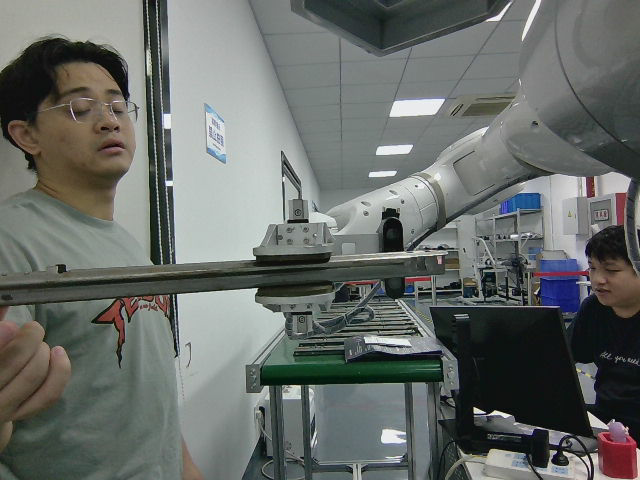up: (1, 242, 450, 307)
